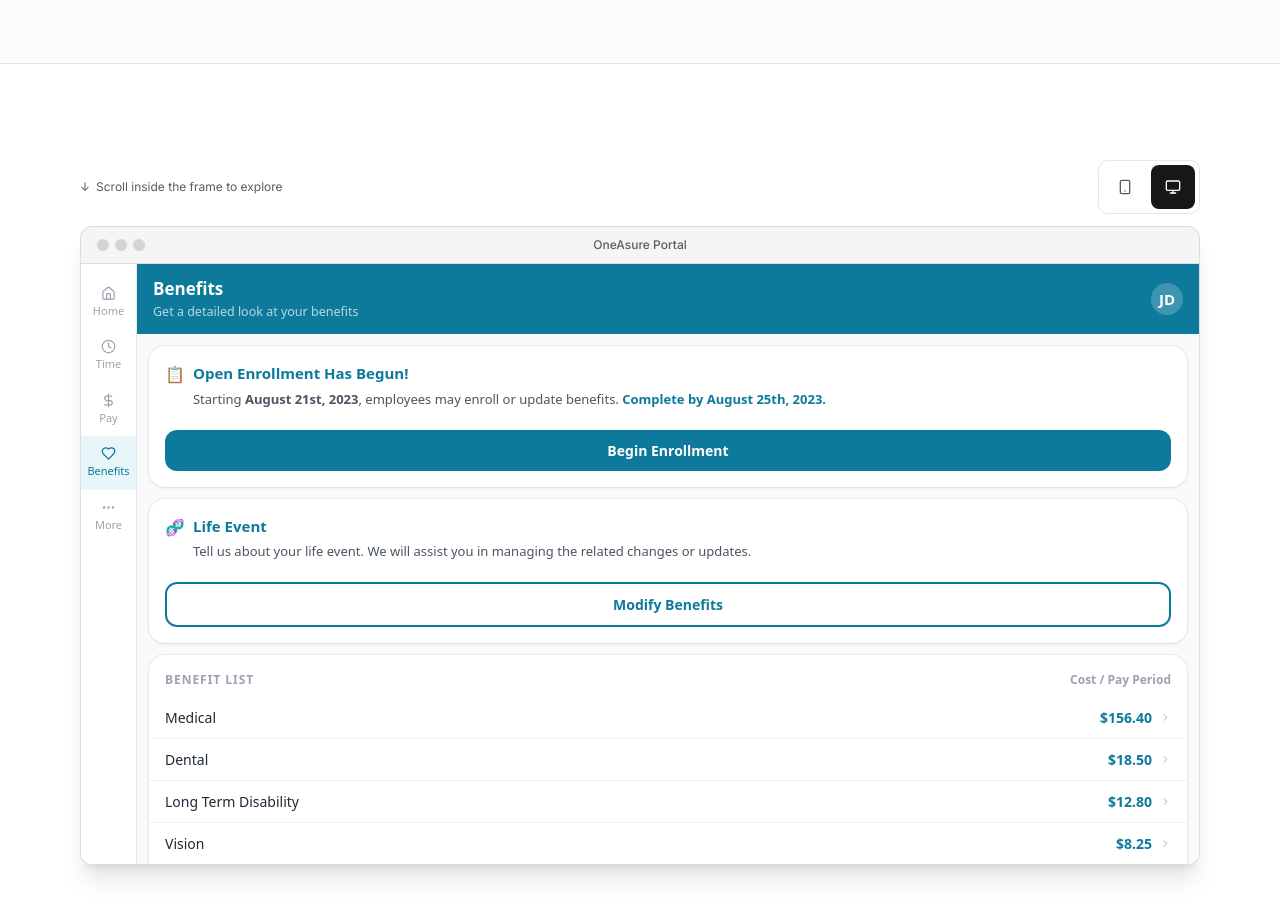
Test: OneAsure project page › walks through the benefits enrollment demo
(page scrolled)
What coordinates should you click on to do the following:
click the button "Begin Enrollment"
I would click on:
 (668, 450)
Its box is [165,430,1171,471].
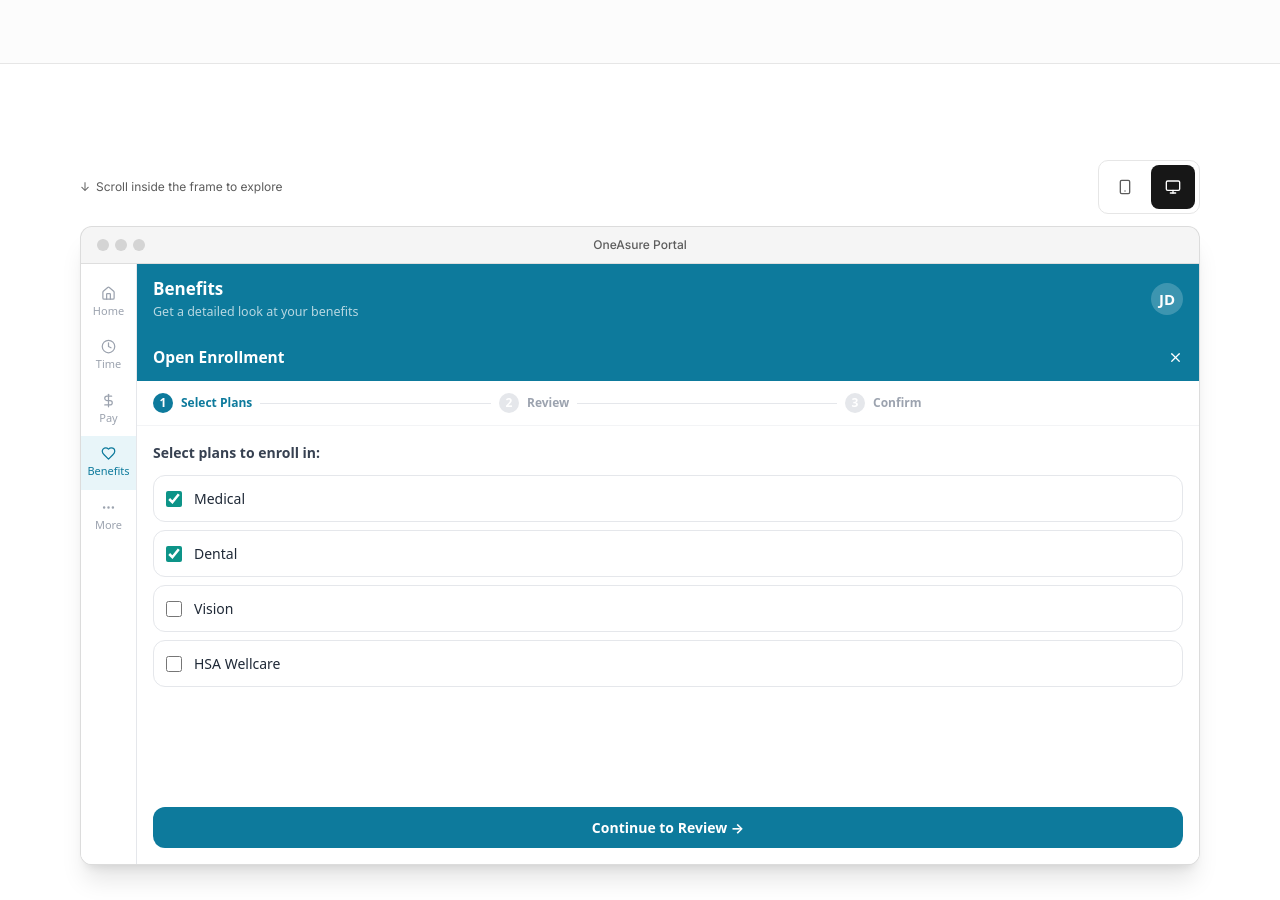
Expected: the text "Open Enrollment Has Begun!" is shown, [193,363,408,383]
What coordinates should you click on to do the following:
click the button "Continue to Review →"
I would click on:
 (668, 827)
Its box is [153,807,1183,848].
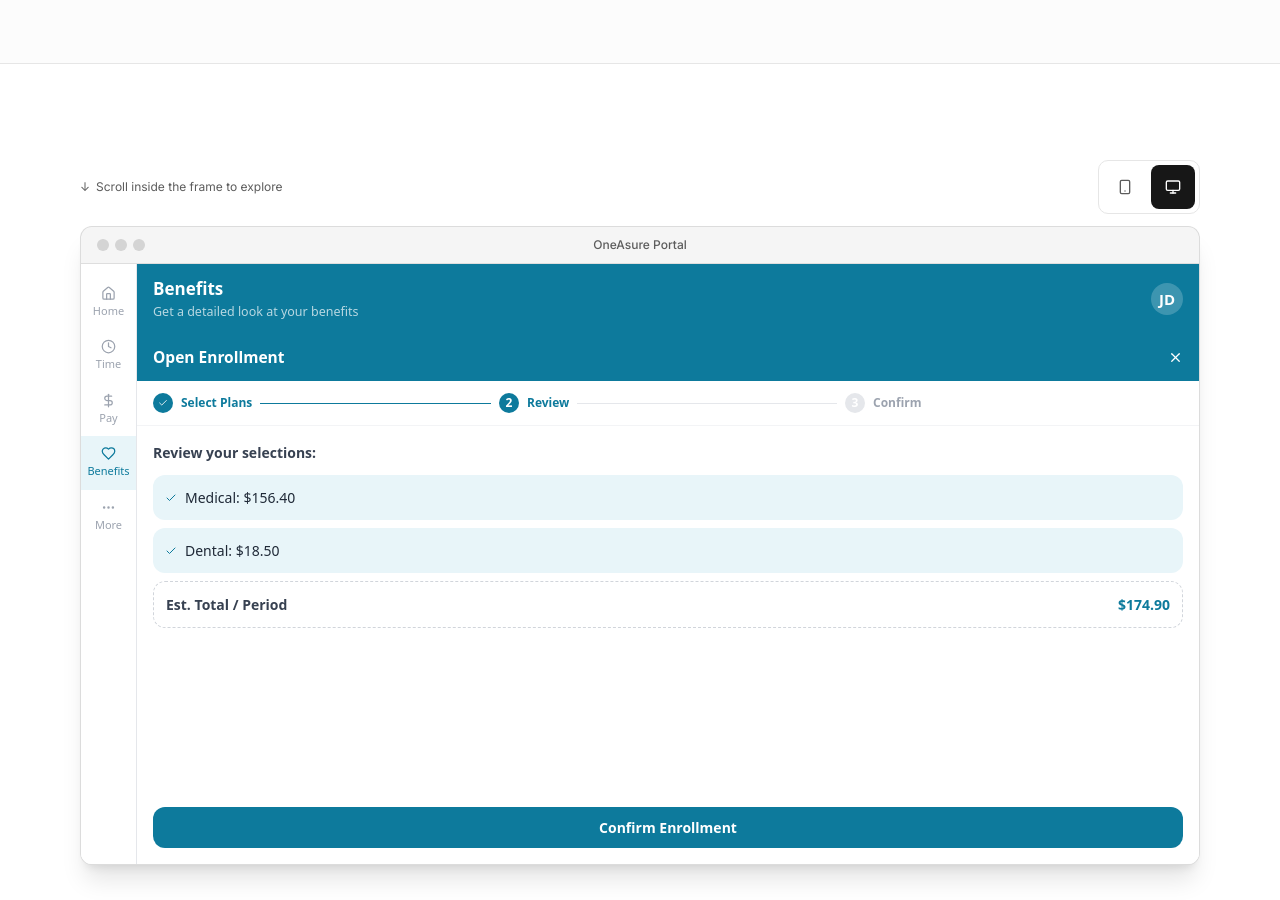
Now the text "Review your selections:" is shown, box [153,443,316,462]
